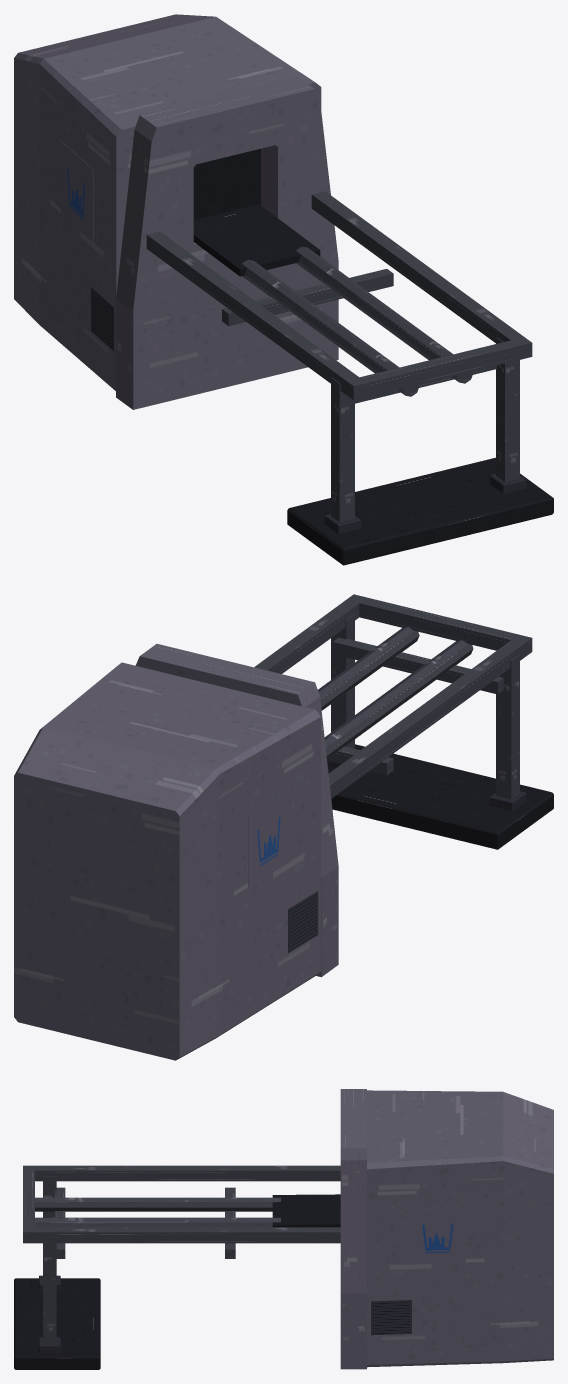
The model's file is ball_return.glb.
3 renders of one model, top to bottom at view 1: azimuth 30°, elevation 25°; view 2: azimuth 150°, elevation 25°; view 3: azimuth 270°, elevation 25°, orthographic. The views are drawn at different scales.
Parts seen in each view (by area): view 1: arcade_ball_return; view 2: arcade_ball_return; view 3: arcade_ball_return.
Part boxes in pixels (x1,y1,x2,y2): arcade_ball_return: (14, 14, 553, 565); arcade_ball_return: (14, 594, 553, 1060); arcade_ball_return: (14, 1089, 553, 1369).
Size of the model in its own units: 0.63 by 0.785 by 1.81.
Materials: 2 (2 with a texture image).
